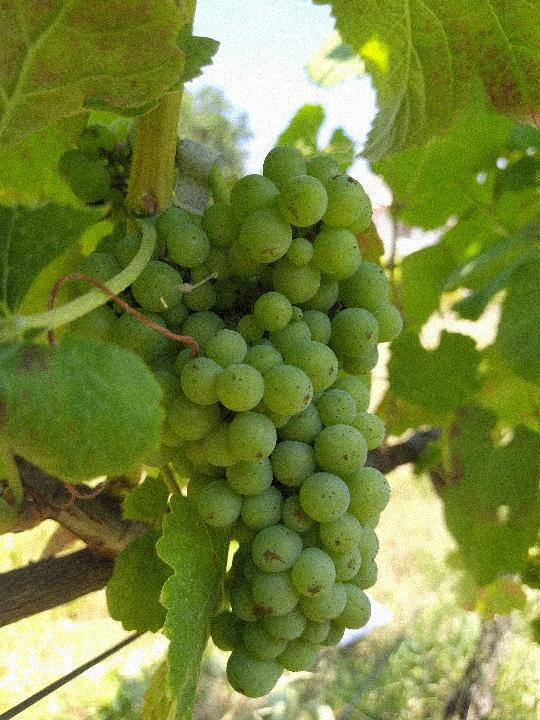grape: (71, 143, 410, 698)
